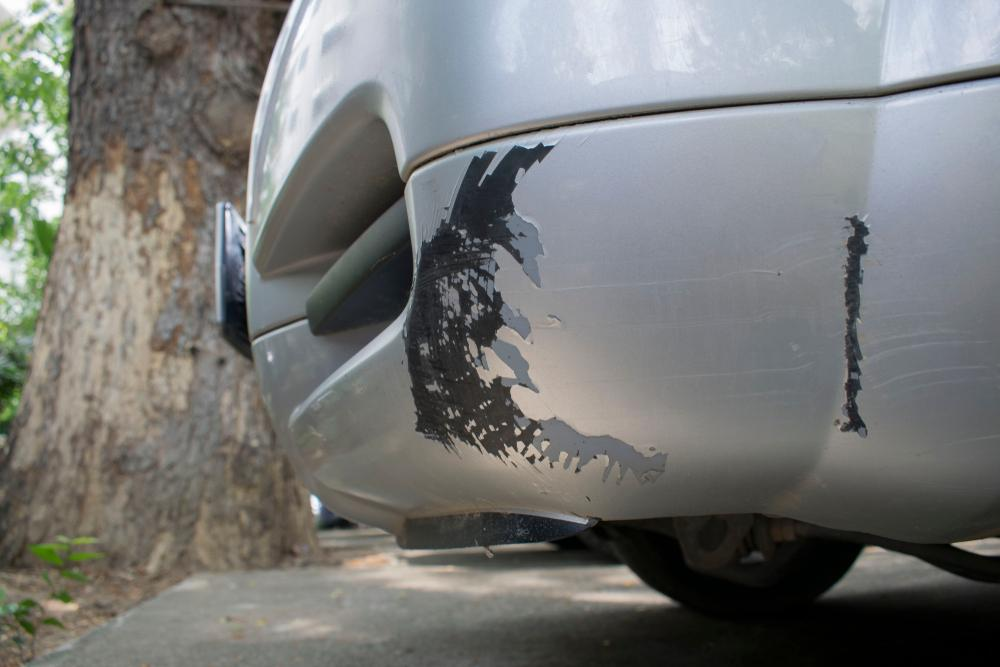scratch: (405, 142, 1000, 487)
